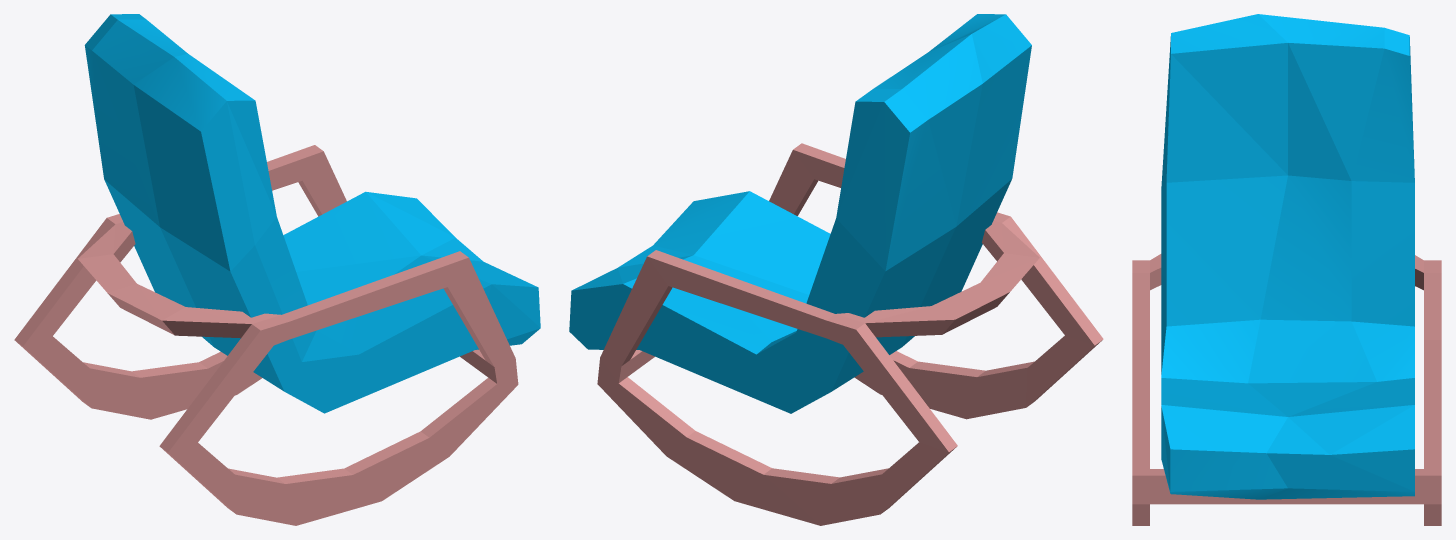
Rendered from chair2.FBX.
3 views of the same model, side by side, from view 1: azimuth 30°, elevation 25°; view 2: azimuth 150°, elevation 25°; view 3: azimuth 270°, elevation 25° (orthographic).
Parts seen in each view (by area): view 1: polySurface8; view 2: polySurface8; view 3: polySurface8.
Part boxes in pixels (box(x1,y1,x2,y2)): polySurface8: box(14, 14, 540, 525); polySurface8: box(569, 14, 1103, 525); polySurface8: box(1132, 14, 1441, 525).
Size of the model in its own units: 92.2 by 98.48 by 62.84.
